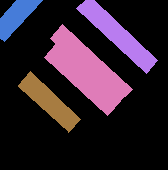parkingspot: (50, 24, 132, 102), (76, 0, 157, 73), (44, 43, 120, 115), (18, 71, 80, 132), (0, 0, 42, 41)
